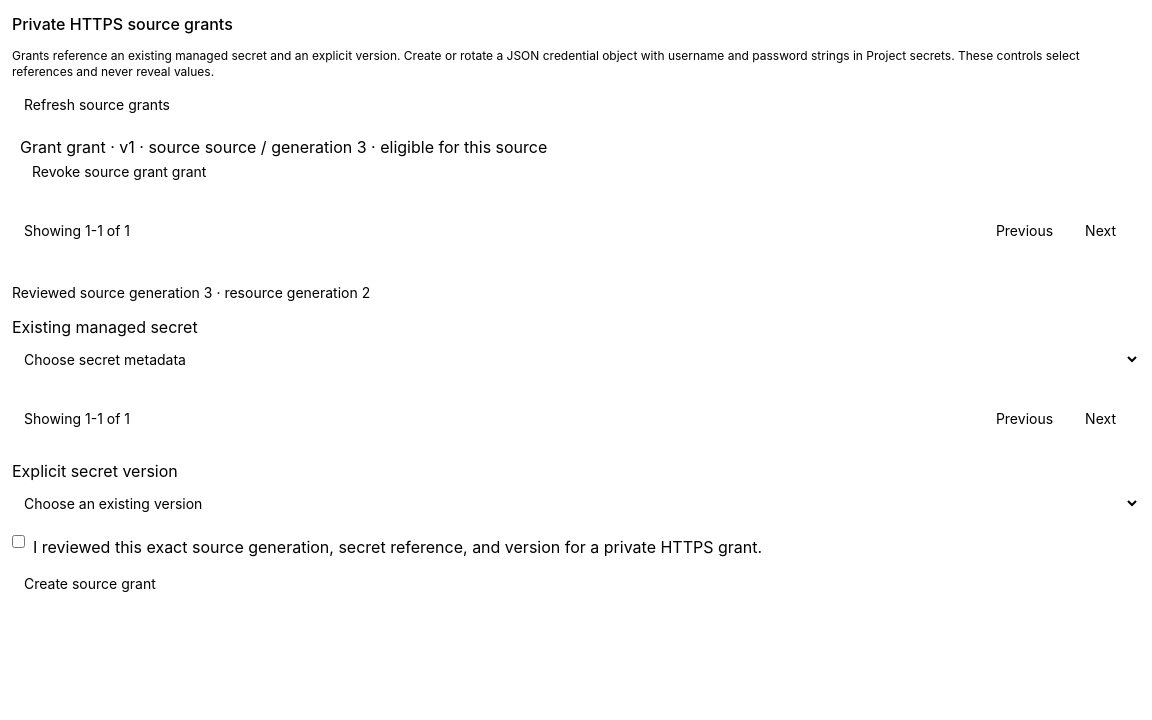
Test: revocation posts an empty object and refreshes recorded metadata
Click the button "Revoke source grant grant": coordinates (119, 172) [20, 162, 218, 182]
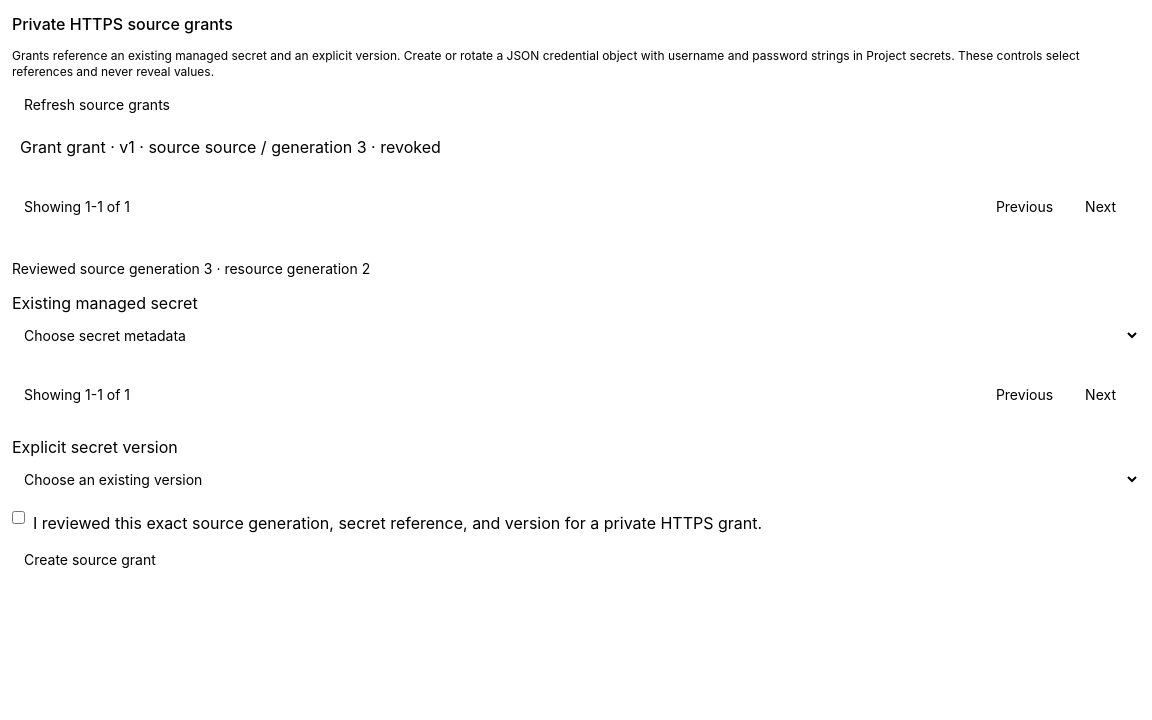
Expected: the text "Grant grant · v1 · source source / generation 3 · revoked" is shown, [20, 137, 441, 157]
